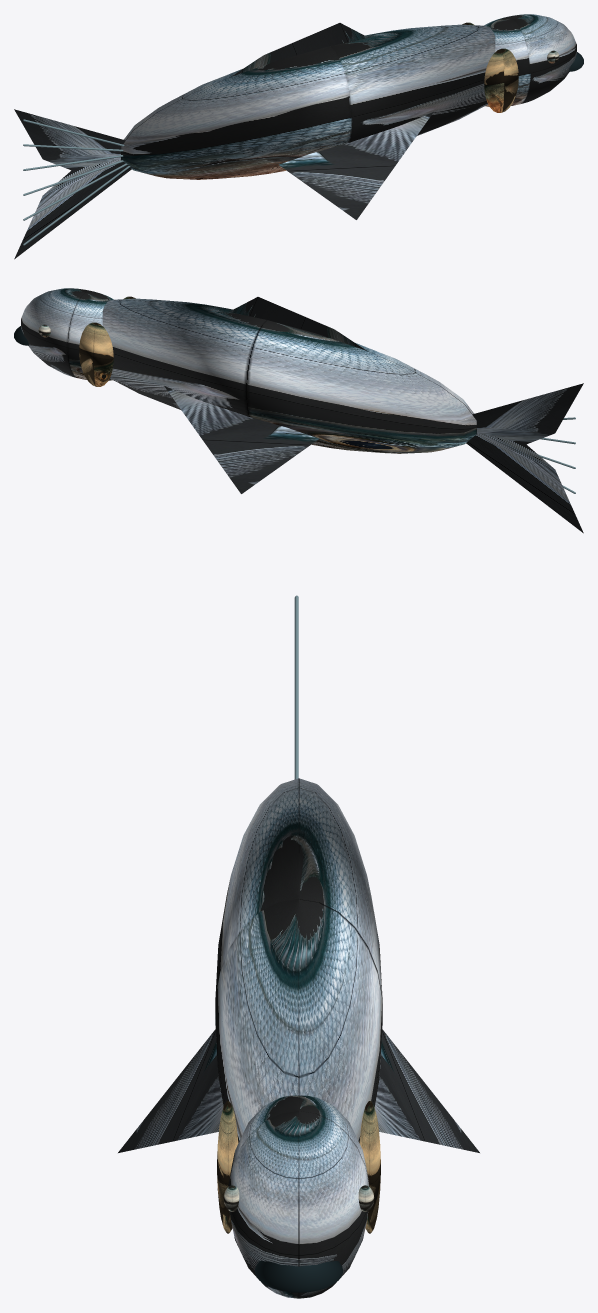
Rendered from coastal_fish.glb.
The picture shows the model from 3 angles, top to bottom: view 1: azimuth 30°, elevation 25°; view 2: azimuth 150°, elevation 25°; view 3: azimuth 270°, elevation 25°; orthographic projection. The views are drawn at different scales.
Parts seen in each view (by area): view 1: BatchedSurface, _MeshInstance3D_5, _MeshInstance3D_3, _MeshInstance3D_6; view 2: BatchedSurface, _MeshInstance3D_5, _MeshInstance3D_3; view 3: BatchedSurface, _MeshInstance3D_5, _MeshInstance3D_3, _MeshInstance3D_2, _MeshInstance3D_6.
Boxes of the visible parts, left/top/right/bottom form: BatchedSurface: left=121, top=14, right=576, bottom=179; _MeshInstance3D_5: left=14, top=23, right=433, bottom=259; _MeshInstance3D_3: left=462, top=22, right=518, bottom=112; _MeshInstance3D_6: left=23, top=119, right=130, bottom=245; BatchedSurface: left=21, top=288, right=476, bottom=453; _MeshInstance3D_5: left=164, top=297, right=583, bottom=533; _MeshInstance3D_3: left=79, top=296, right=135, bottom=386; BatchedSurface: left=215, top=778, right=382, bottom=1298; _MeshInstance3D_5: left=118, top=1029, right=479, bottom=1152; _MeshInstance3D_3: left=217, top=1101, right=380, bottom=1233; _MeshInstance3D_2: left=255, top=1261, right=342, bottom=1292; _MeshInstance3D_6: left=294, top=595, right=298, bottom=779.
Bounding box in the file's own units: 0.5909 × 0.157 × 0.164.
6 materials, 4 textured.
